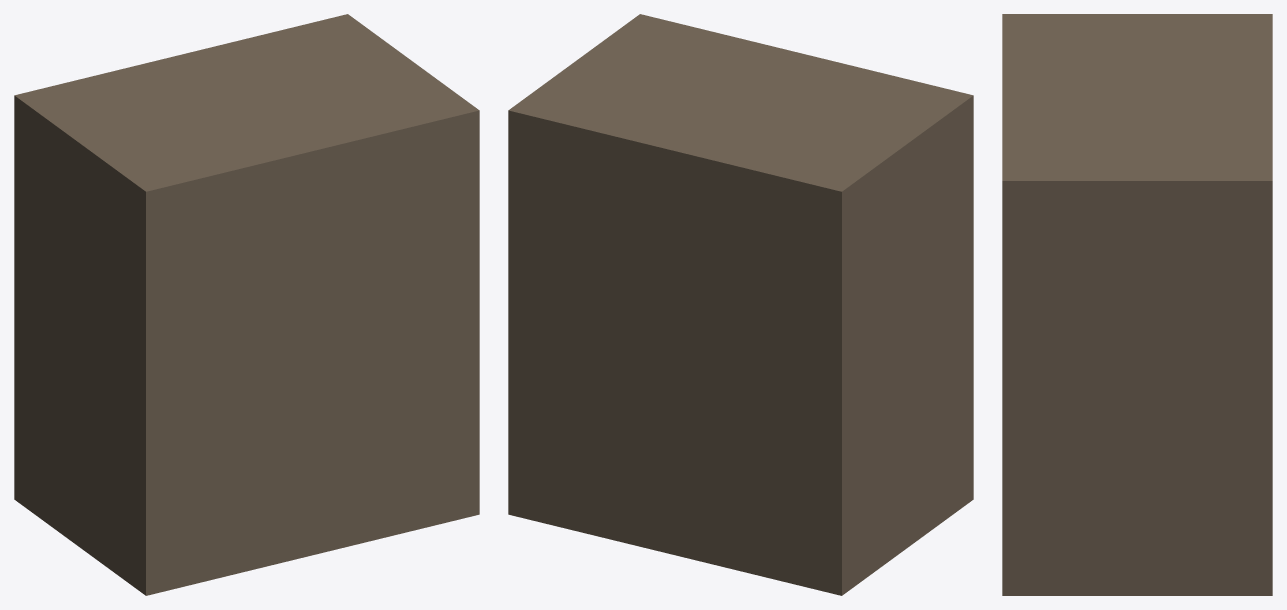
Rendered from prop_umul_lod2.glb.
The picture shows the model from 3 angles, left to right: view 1: azimuth 30°, elevation 25°; view 2: azimuth 150°, elevation 25°; view 3: azimuth 270°, elevation 25°; orthographic projection. The views are drawn at different scales.
Visible parts, largest first — view 1: prop_umul_lod2; view 2: prop_umul_lod2; view 3: prop_umul_lod2.
Boxes of the visible parts, x1=… form: prop_umul_lod2: x1=14, y1=14, x2=479, y2=595; prop_umul_lod2: x1=508, y1=14, x2=973, y2=595; prop_umul_lod2: x1=1002, y1=14, x2=1272, y2=595.
Bounding box in the file's own units: 1.9 × 2.2 × 1.3.
